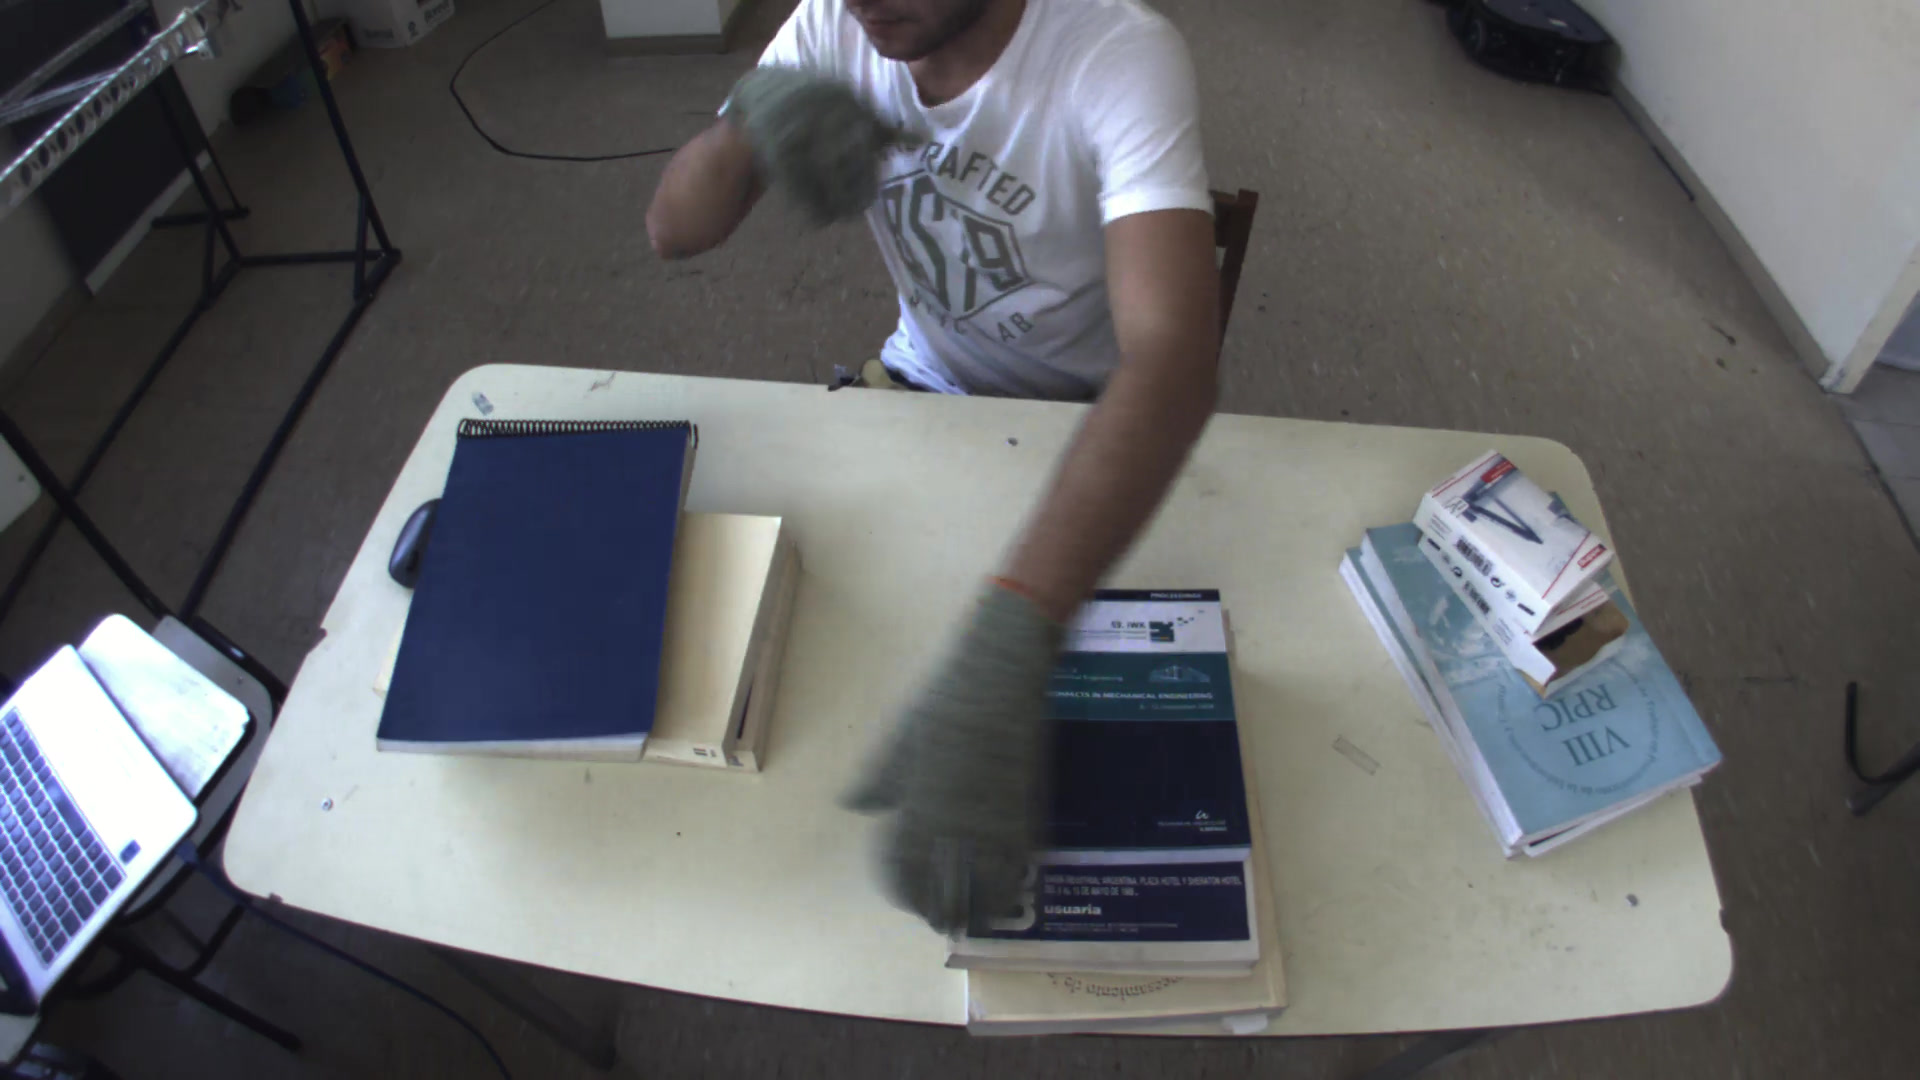hand: (858, 559, 1069, 973), (724, 71, 922, 225)
